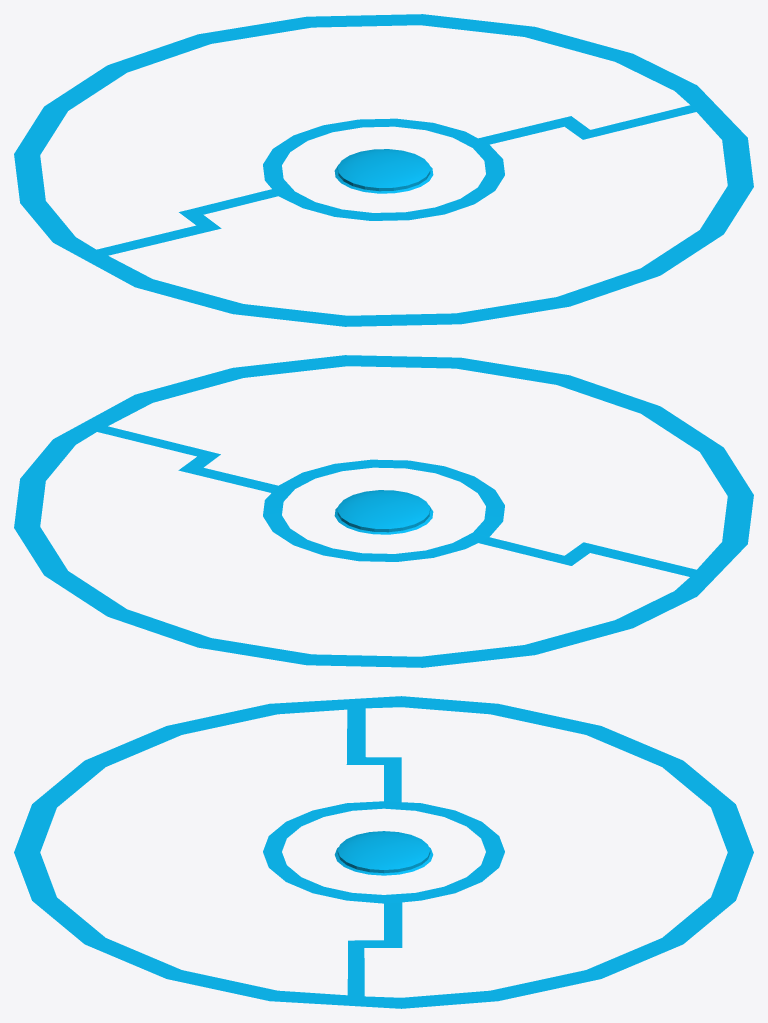
The model's file is floor_is_lava_export_2_blue.fbx.
3 views of the same model, one above another, from view 1: azimuth 30°, elevation 25°; view 2: azimuth 150°, elevation 25°; view 3: azimuth 270°, elevation 25° (orthographic).
Parts seen in each view (by area): view 1: pCylinder3; view 2: pCylinder3; view 3: pCylinder3.
Boxes of the visible parts, <box> form: pCylinder3: <box>14,14,753,326</box>; pCylinder3: <box>14,355,753,667</box>; pCylinder3: <box>14,696,753,1008</box>.
Bounding box in the file's own units: 247 × 3.15 × 247.
